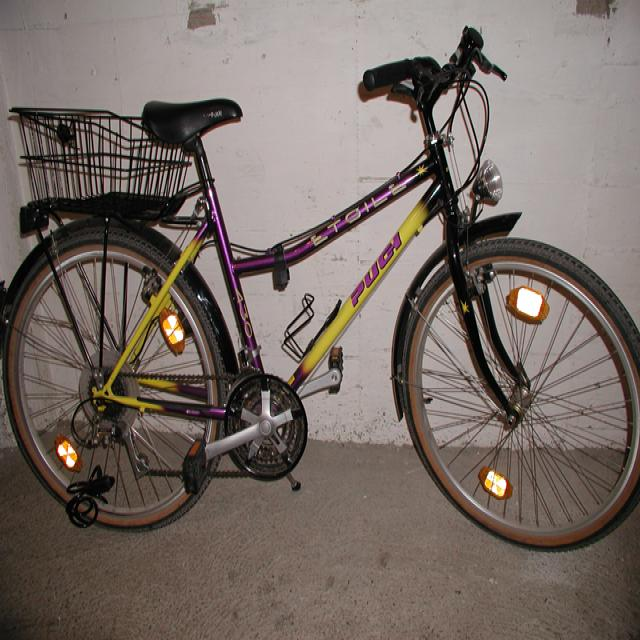bicycle: (0, 24, 639, 548)
